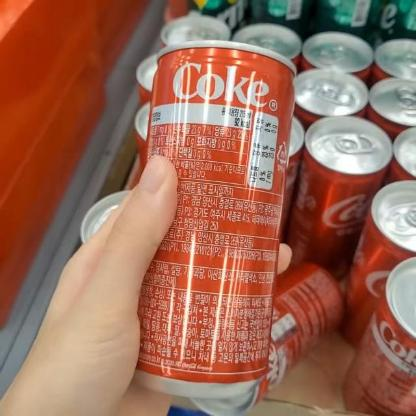Can: (130, 40, 298, 400)
